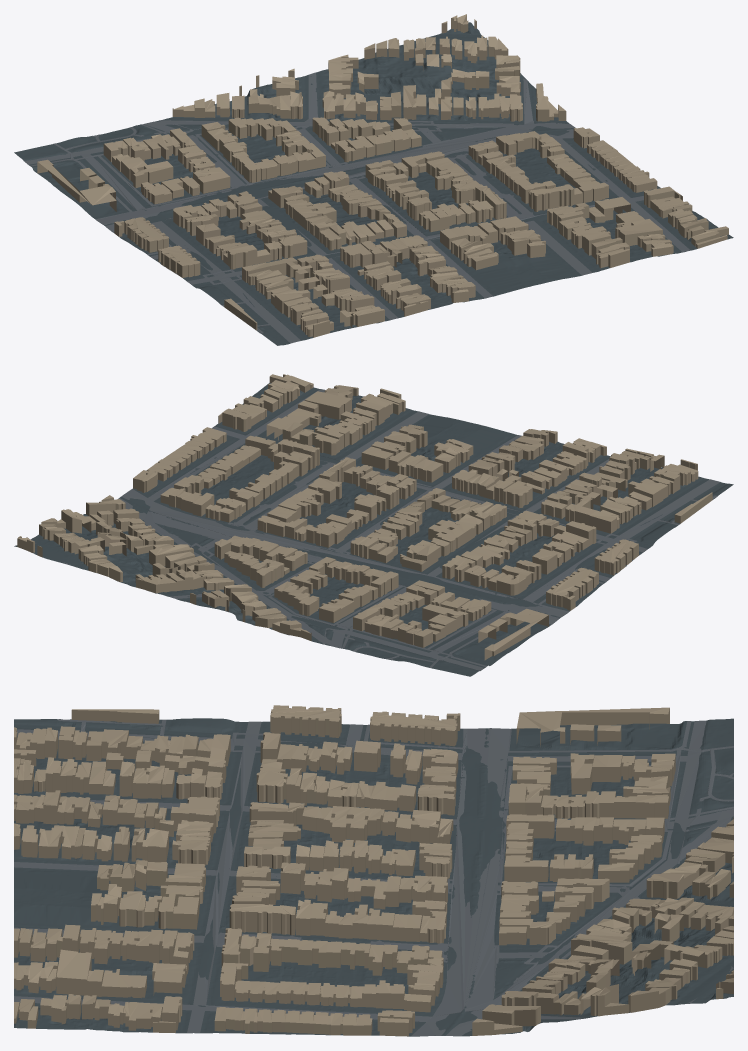
The model's file is epsg26910-1437-10880.lod0.glb.
3 views of the same model, one above another, from view 1: azimuth 30°, elevation 25°; view 2: azimuth 150°, elevation 25°; view 3: azimuth 270°, elevation 25° (orthographic). The views are drawn at different scales.
Visible parts, largest first — view 1: epsg26910-1437-10880-lod0; view 2: epsg26910-1437-10880-lod0; view 3: epsg26910-1437-10880-lod0.
Part boxes in pixels (left/top/right/bottom): epsg26910-1437-10880-lod0: left=14, top=14, right=733, bottom=345; epsg26910-1437-10880-lod0: left=14, top=374, right=733, bottom=676; epsg26910-1437-10880-lod0: left=14, top=705, right=733, bottom=1036.
Bounding box in the file's own units: 384 × 31.62 × 384.
